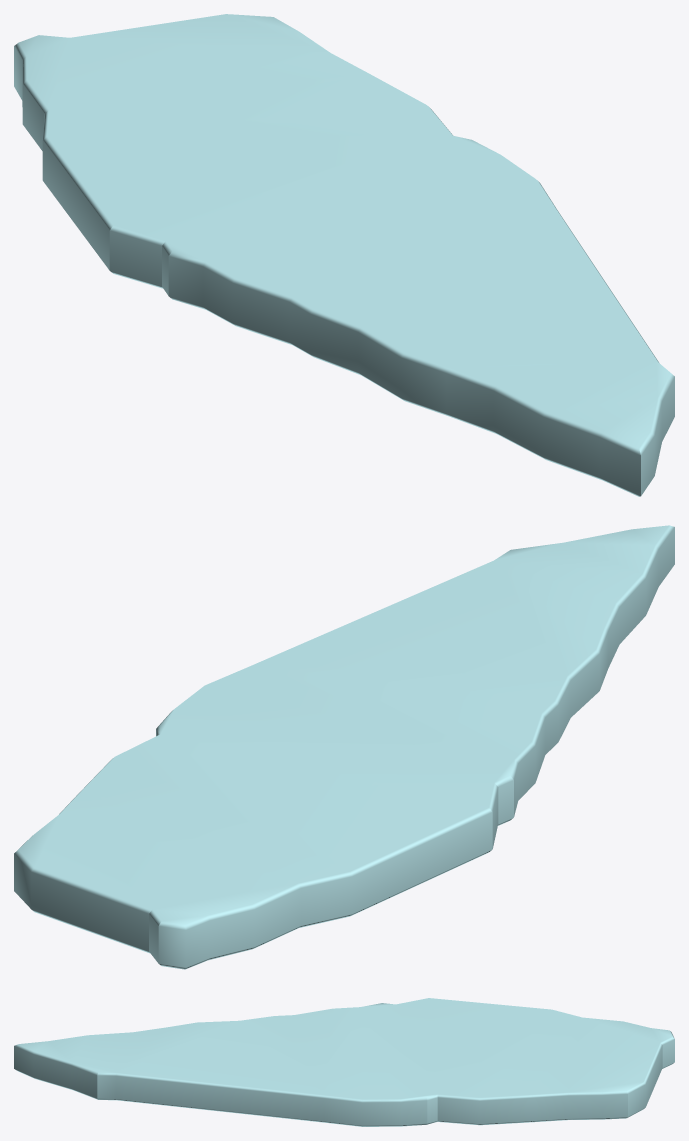
Rendered from ice_floe_large_001.fbx.
3 views of the same model, one above another, from view 1: azimuth 30°, elevation 25°; view 2: azimuth 150°, elevation 25°; view 3: azimuth 270°, elevation 25° (orthographic). The views are drawn at different scales.
Visible parts, largest first — view 1: ice_floe_large_001; view 2: ice_floe_large_001; view 3: ice_floe_large_001.
Boxes of the visible parts, x1,y1,x2,y2 form: ice_floe_large_001: (14,14,674,496); ice_floe_large_001: (14,525,674,969); ice_floe_large_001: (14,998,674,1126).
Size of the model in its own units: 796 by 2149 by 99.28.
